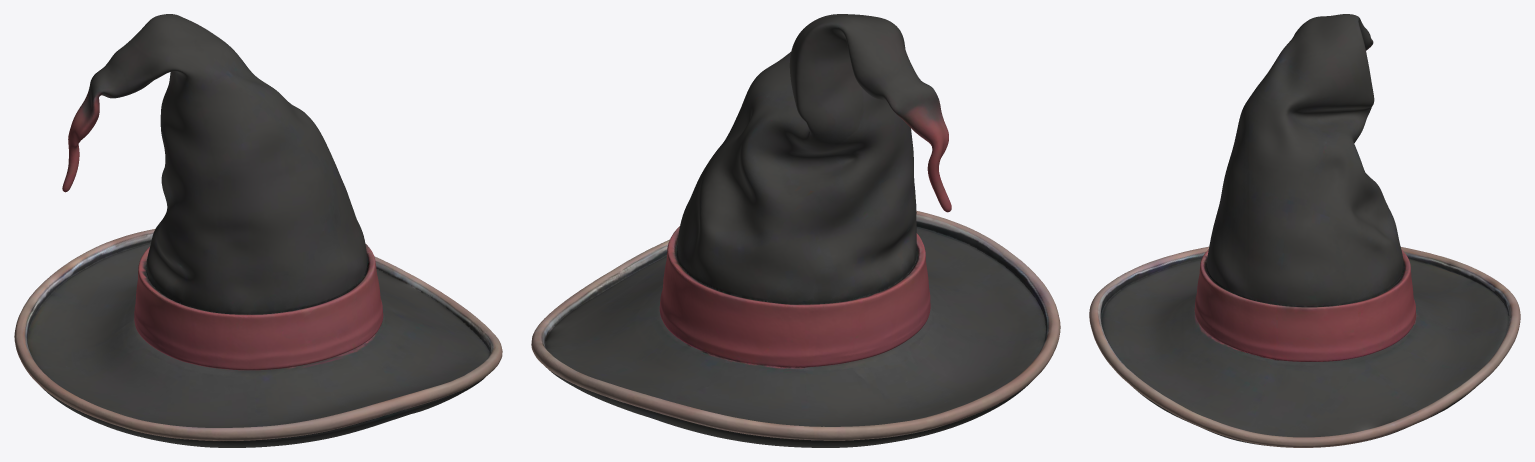
File: detailed_realistic_model_sortinghat_01.glb
3 views of the same model, side by side, from view 1: azimuth 30°, elevation 25°; view 2: azimuth 150°, elevation 25°; view 3: azimuth 270°, elevation 25° (orthographic). The views are drawn at different scales.
Visible parts, largest first — view 1: tripo_node_2a09ae2c-2074-4325-8c19-1bc168f3bad6; view 2: tripo_node_2a09ae2c-2074-4325-8c19-1bc168f3bad6; view 3: tripo_node_2a09ae2c-2074-4325-8c19-1bc168f3bad6.
Boxes of the visible parts, x1=… form: tripo_node_2a09ae2c-2074-4325-8c19-1bc168f3bad6: x1=14, y1=14, x2=502, y2=447; tripo_node_2a09ae2c-2074-4325-8c19-1bc168f3bad6: x1=531, y1=14, x2=1060, y2=447; tripo_node_2a09ae2c-2074-4325-8c19-1bc168f3bad6: x1=1089, y1=14, x2=1520, y2=447.
Bounding box in the file's own units: 0.9996 × 0.8358 × 1.
Materials: 1 (1 with a texture image).
